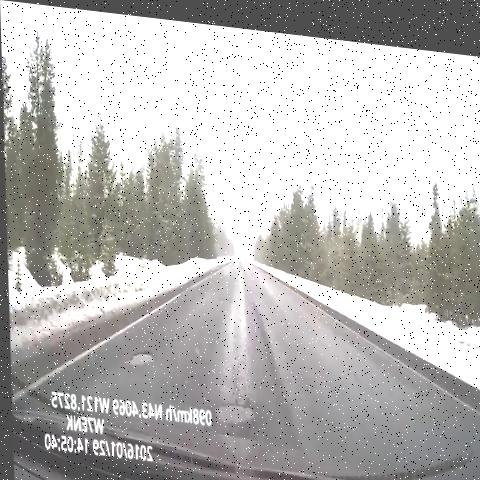pothole: (196, 373, 259, 440), (120, 315, 156, 378)
